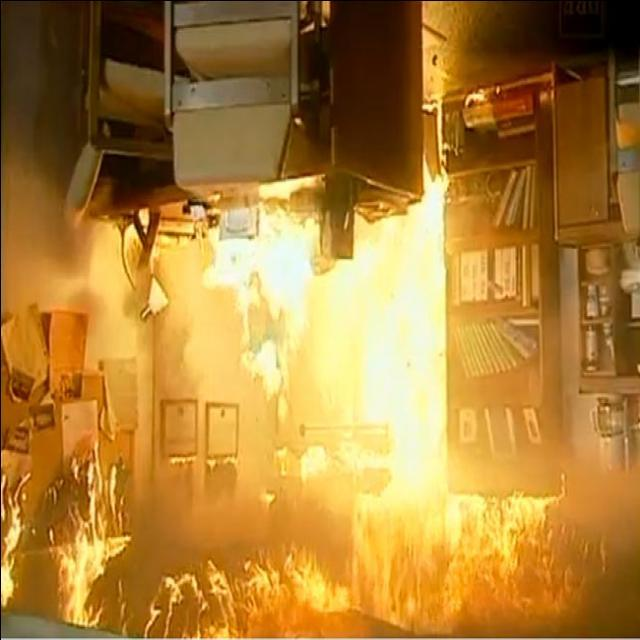Fire: (187, 211, 584, 619), (0, 440, 126, 616)
